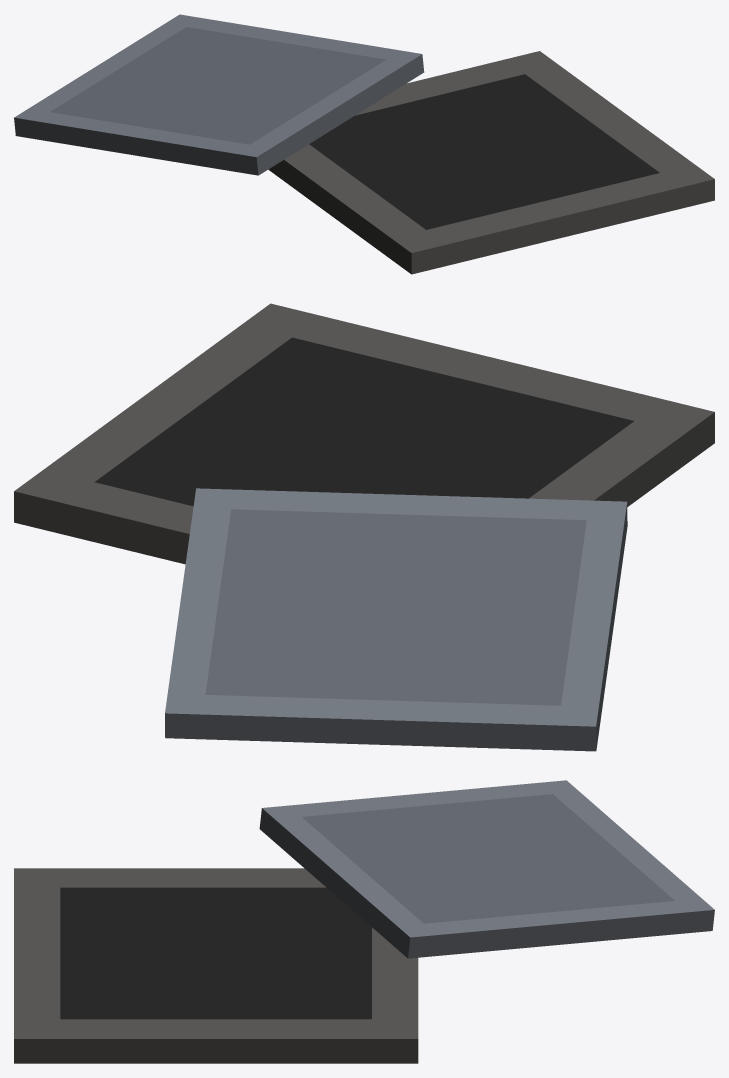
The model's file is SA_Env_ManholeOpen.gltf.
3 views of the same model, one above another, from view 1: azimuth 30°, elevation 25°; view 2: azimuth 150°, elevation 25°; view 3: azimuth 270°, elevation 25° (orthographic). The views are drawn at different scales.
Visible parts, largest first — view 1: SA_Env_ManholeOpen; view 2: SA_Env_ManholeOpen; view 3: SA_Env_ManholeOpen.
Boxes of the visible parts, left/top/right/bottom form: SA_Env_ManholeOpen: left=14, top=14, right=714, bottom=274; SA_Env_ManholeOpen: left=14, top=303, right=714, bottom=751; SA_Env_ManholeOpen: left=14, top=780, right=714, bottom=1063.
Size of the model in its own units: 2.46 by 0.2564 by 2.81.
Materials: 1 (1 with a texture image).
